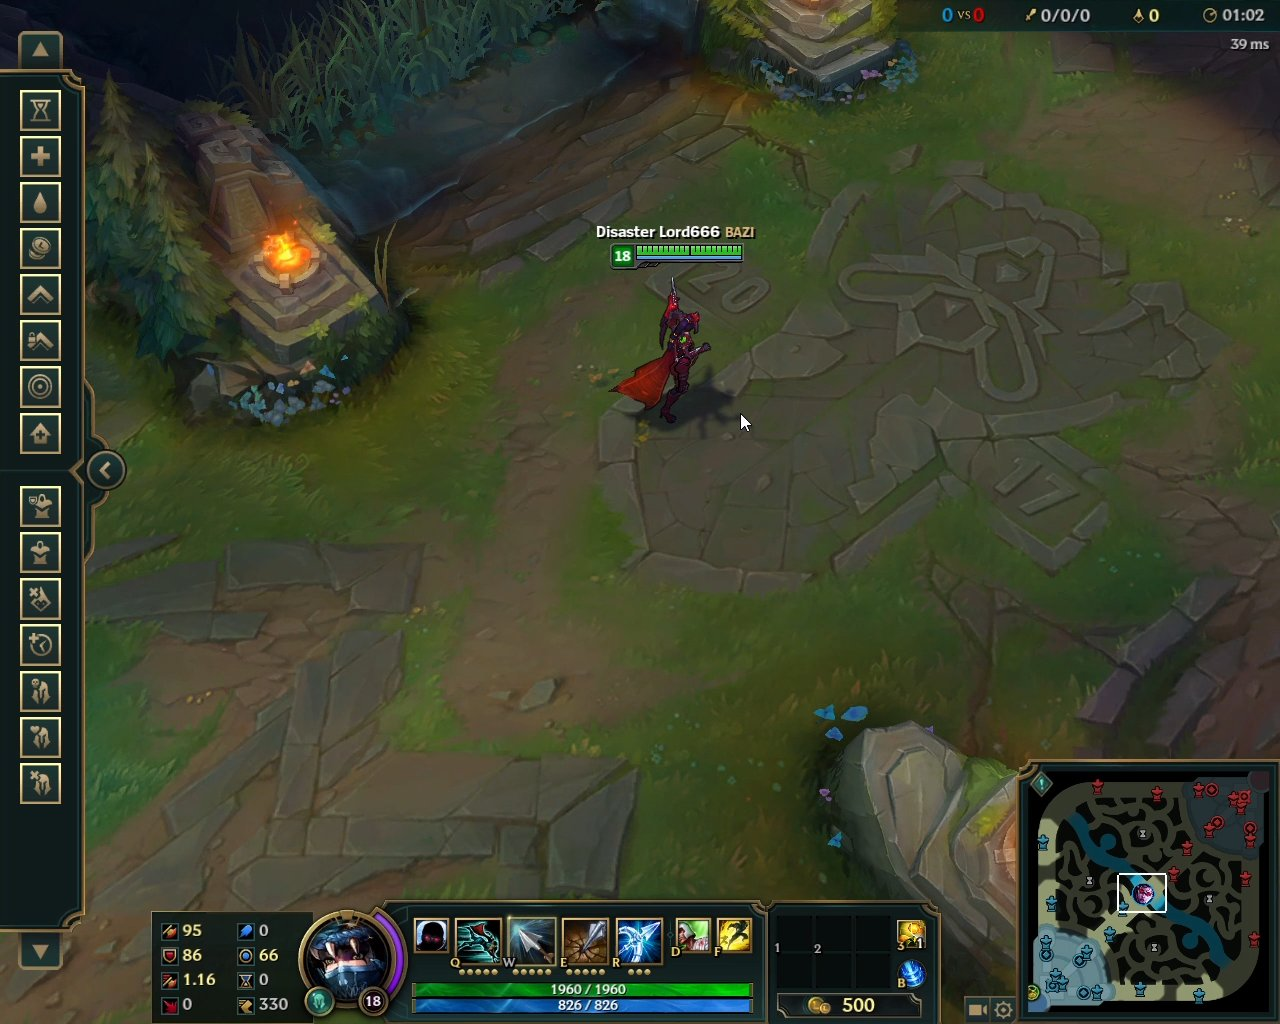Vayne: (603, 270, 724, 435)
